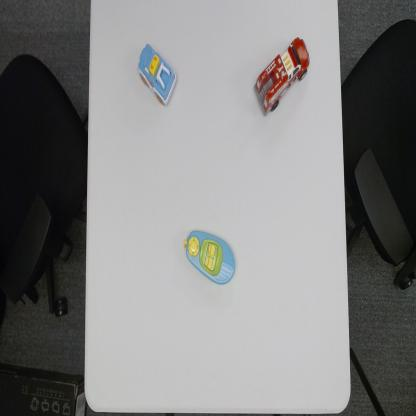Boat: (183, 228, 237, 286)
Car: (136, 42, 178, 109)
Firetruck: (253, 35, 311, 118)
